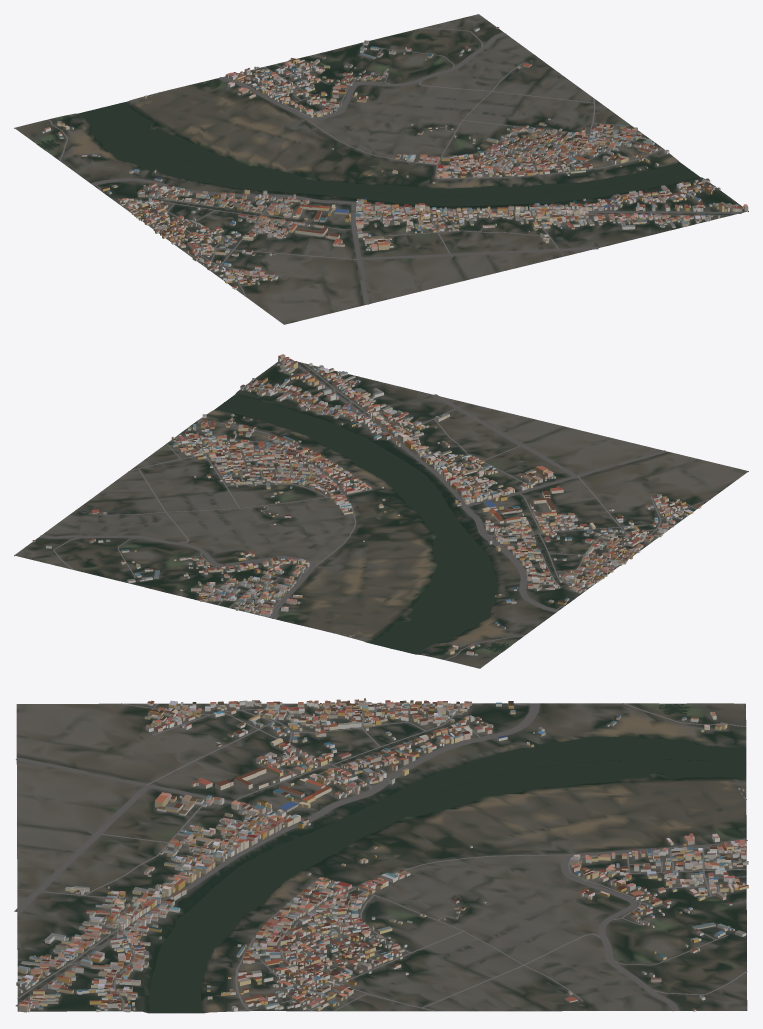
The picture shows the model from 3 angles, top to bottom: view 1: azimuth 30°, elevation 25°; view 2: azimuth 150°, elevation 25°; view 3: azimuth 270°, elevation 25°; orthographic projection. The views are drawn at different scales.
Parts seen in each view (by area): view 1: ground, buildings, water, roads; view 2: ground, buildings, water, roads; view 3: ground, buildings, water, roads.
Part boxes in pixels (left/top/right/bottom): ground: left=14, top=14, right=748, bottom=324; buildings: left=41, top=27, right=748, bottom=289; water: left=38, top=102, right=698, bottom=206; roads: left=48, top=28, right=741, bottom=304; ground: left=14, top=360, right=748, bottom=668; buildings: left=32, top=354, right=701, bottom=655; water: left=215, top=395, right=512, bottom=654; roads: left=40, top=359, right=710, bottom=660; ground: left=16, top=703, right=747, bottom=1013; buildings: left=16, top=698, right=748, bottom=1012; water: left=148, top=703, right=746, bottom=1012; roads: left=14, top=703, right=747, bottom=1011.
Size of the model in its own units: 1410 by 25.57 by 1412.
